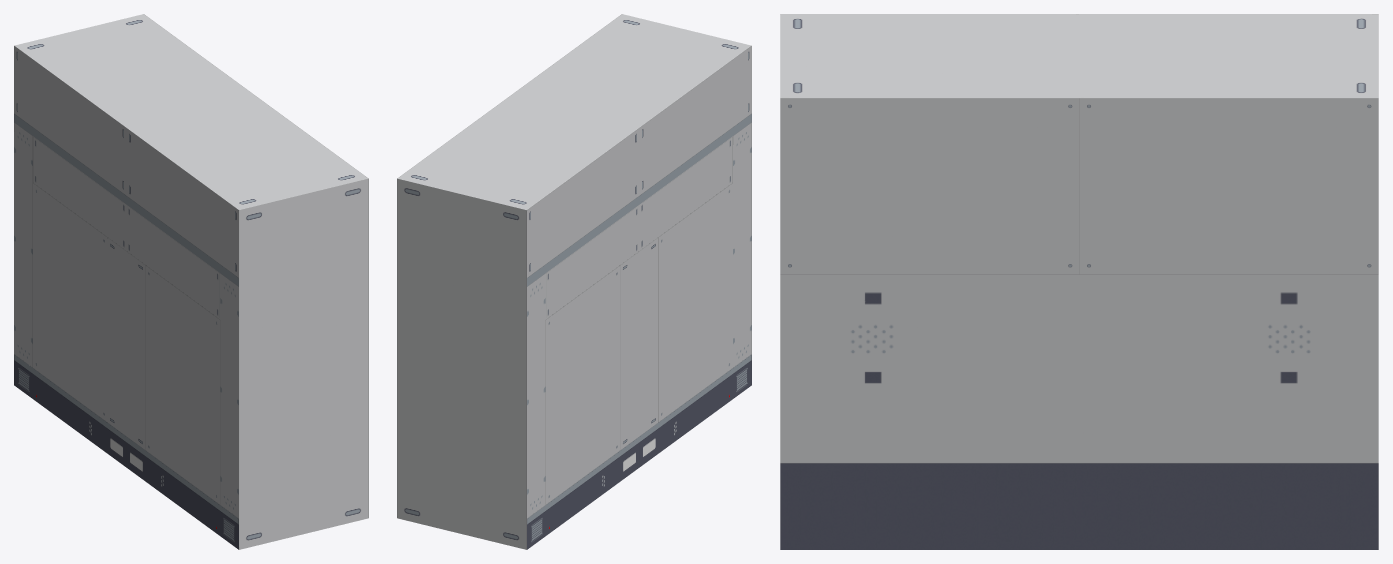
File: Wall_Normal_Simple_03.FBX
The picture shows the model from 3 angles, left to right: view 1: azimuth 30°, elevation 25°; view 2: azimuth 150°, elevation 25°; view 3: azimuth 270°, elevation 25°; orthographic projection. The views are drawn at different scales.
Visible parts, largest first — view 1: Wall_Normal_Simple_03; view 2: Wall_Normal_Simple_03; view 3: Wall_Normal_Simple_03.
Part boxes in pixels (<box>): Wall_Normal_Simple_03: <box>14,14,368,549</box>; Wall_Normal_Simple_03: <box>397,14,751,549</box>; Wall_Normal_Simple_03: <box>780,14,1378,549</box>.
Bounding box in the file's own units: 2 × 5 × 6.
